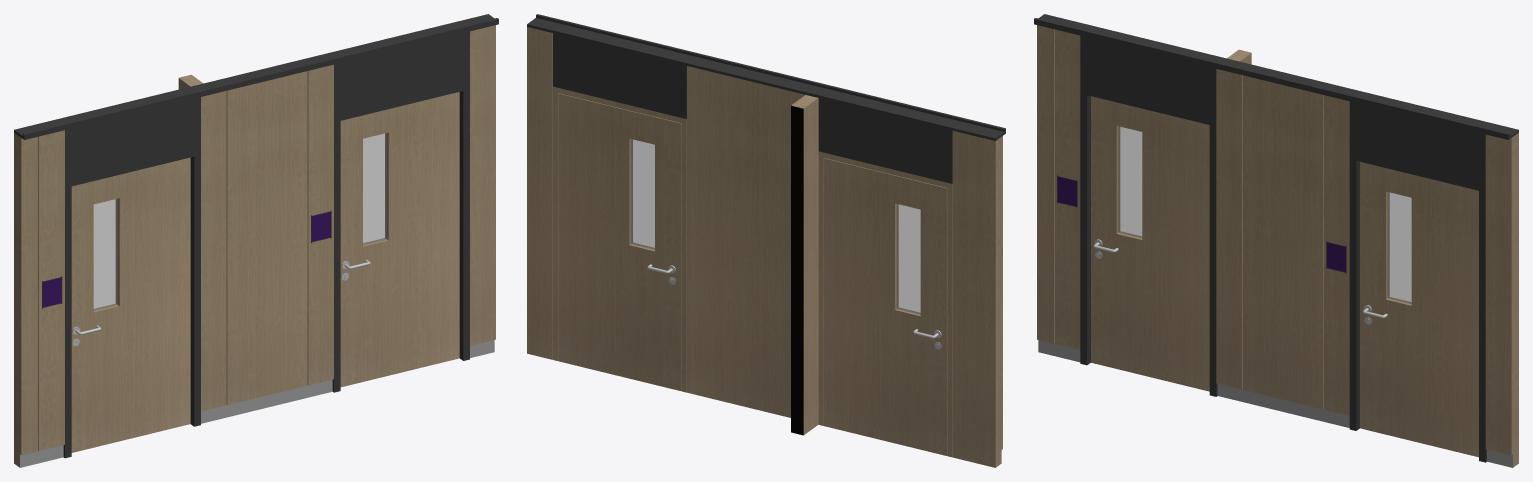
The model's file is meeting_room_office-b.glb.
The picture shows the model from 3 angles, left to right: view 1: azimuth 30°, elevation 25°; view 2: azimuth 150°, elevation 25°; view 3: azimuth 330°, elevation 25°; orthographic projection.
Visible parts, largest first — view 1: Object_7, Object_9, Object_11, Object_10, Object_6; view 2: Object_7, Object_9, Object_11, Object_2; view 3: Object_7, Object_9, Object_11, Object_10, Object_6.
Part boxes in pixels (x1,y1,x2,y2): Object_7: [14, 25, 495, 467]; Object_9: [14, 14, 498, 458]; Object_11: [93, 133, 387, 310]; Object_10: [20, 340, 494, 467]; Object_6: [43, 212, 330, 307]; Object_7: [527, 27, 1002, 467]; Object_9: [527, 14, 1005, 183]; Object_11: [631, 139, 920, 314]; Object_2: [791, 105, 803, 435]; Object_7: [1037, 25, 1518, 467]; Object_9: [1034, 14, 1518, 462]; Object_11: [1118, 126, 1411, 303]; Object_10: [1038, 340, 1512, 467]; Object_6: [1058, 177, 1345, 271].
Bounding box in the file's own units: 3675 × 2490 × 340.
9 materials, 1 textured.
